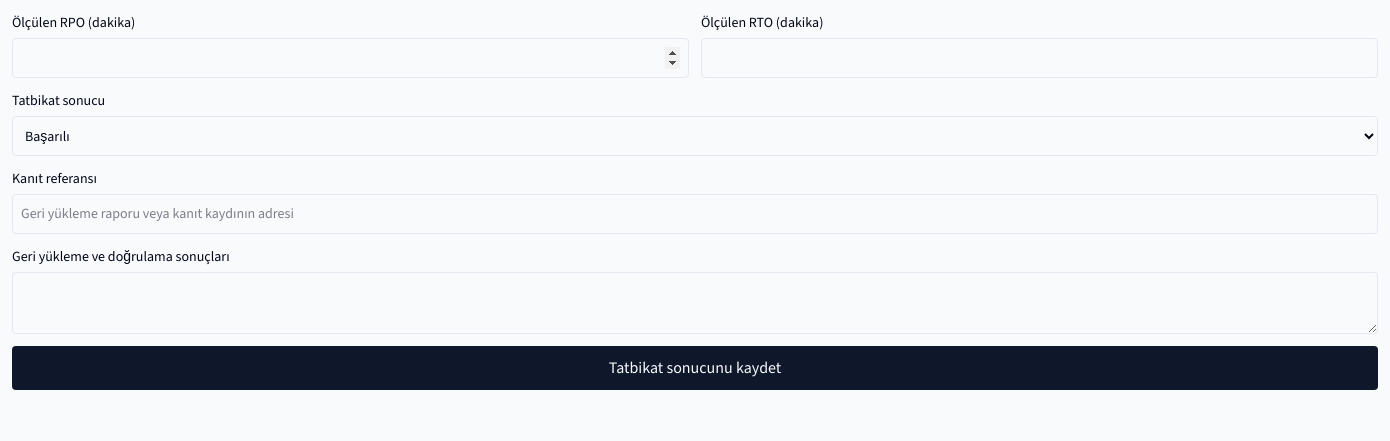
blocks successful completion when the measured recovery target is exceeded and allows failed evidence recording
The width and height of the screenshot is (1390, 441).
Step 1. Type "6" into the number field labelled "Ölçülen RPO (dakika)" → (350, 58), box [12, 38, 689, 78]
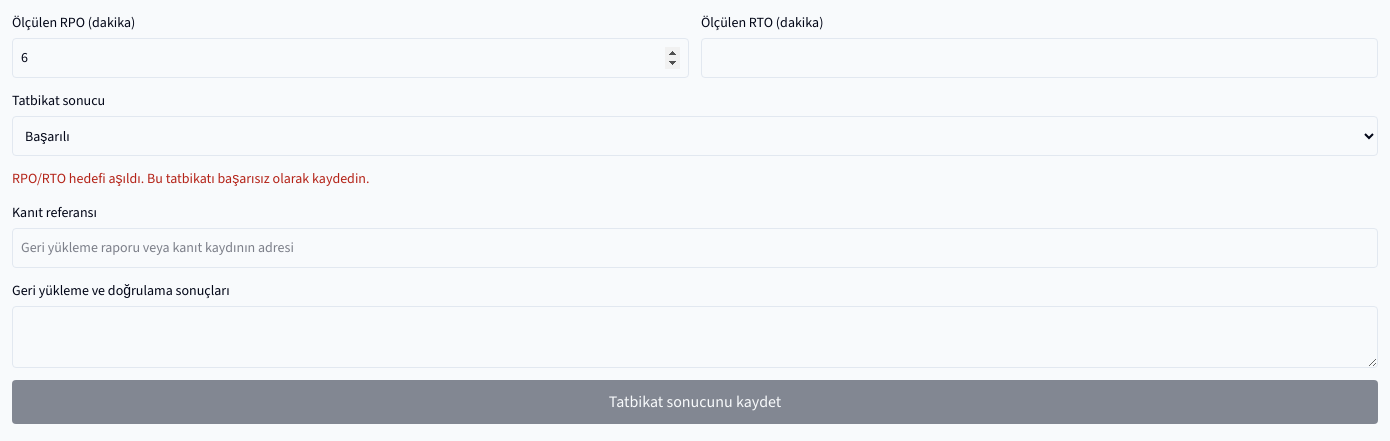
Result: the button "Tatbikat sonucunu kaydet" is disabled at [12, 380, 1378, 424]
Result: the message shows "hedefi aşıldı" at [12, 169, 370, 188]
Step 2. Select "Başarısız" in the dropdown labelled "Tatbikat sonucu" → (695, 136), box [12, 116, 1378, 156]
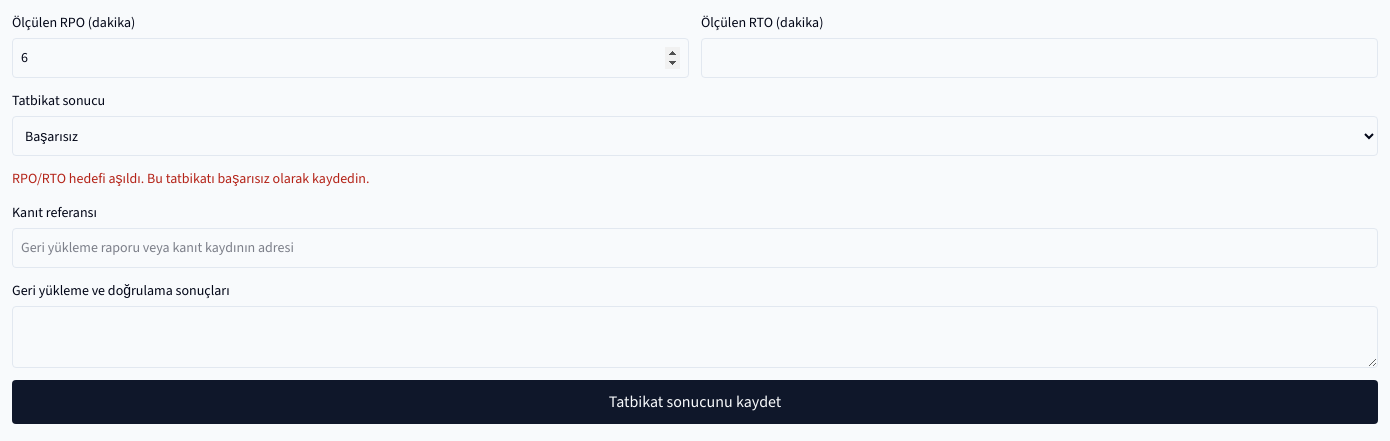
Result: the button "Tatbikat sonucunu kaydet" is enabled at [12, 380, 1378, 424]
